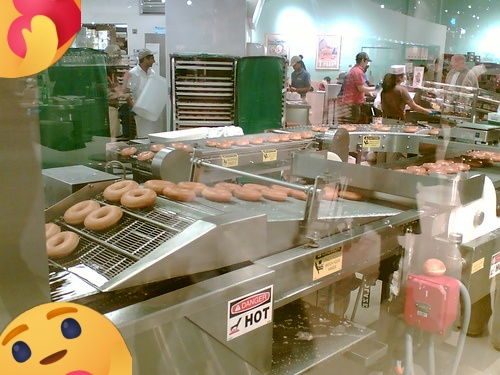care: (0, 302, 132, 375), (0, 0, 81, 78)
